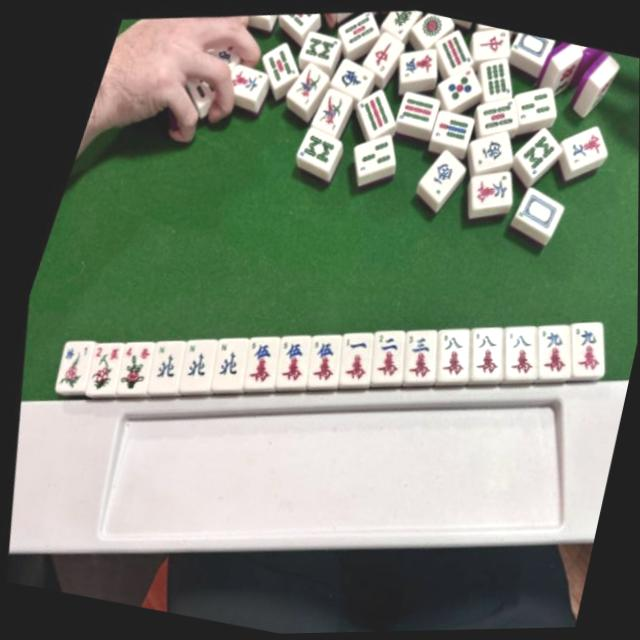bf1: (43, 335, 97, 397)
bs2: (70, 337, 125, 400)
bs4: (102, 336, 156, 399)
hwn: (136, 337, 184, 394), (168, 336, 216, 393), (200, 336, 247, 391)
sc1: (323, 329, 373, 389)
sc2: (356, 327, 407, 387)
sc3: (386, 326, 436, 386)
sc5: (292, 332, 343, 390), (231, 333, 281, 392), (261, 333, 310, 390)
sc8: (486, 322, 538, 383), (420, 325, 471, 384), (454, 324, 504, 384)
sc9: (520, 321, 573, 382), (554, 318, 607, 379)
